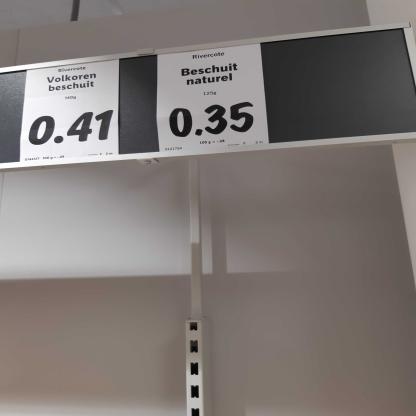prtg: (158, 44, 271, 153), (21, 60, 120, 163)
